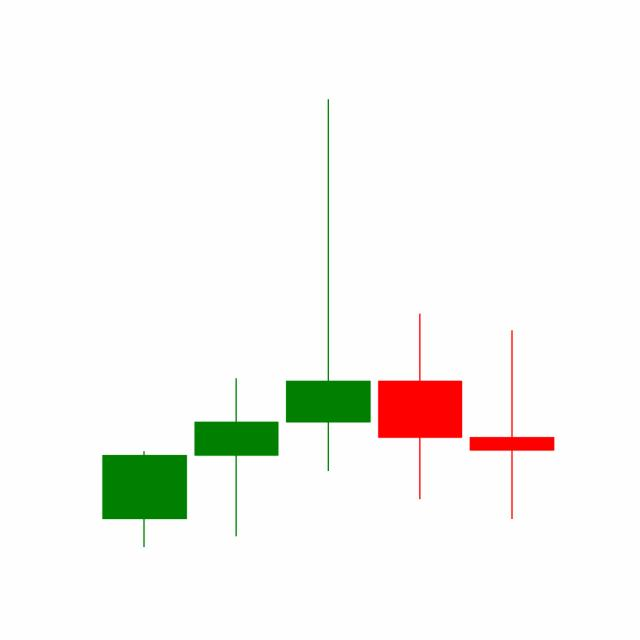Spinning Top: (464, 327, 558, 521)
